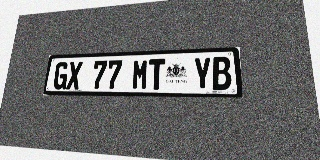7: (105, 60, 122, 90), (90, 61, 107, 90)
B: (212, 56, 232, 90)
G: (52, 62, 69, 89)
M: (131, 59, 149, 90)
T: (148, 59, 165, 90)
X: (66, 61, 83, 90)
Y: (193, 57, 212, 90)
